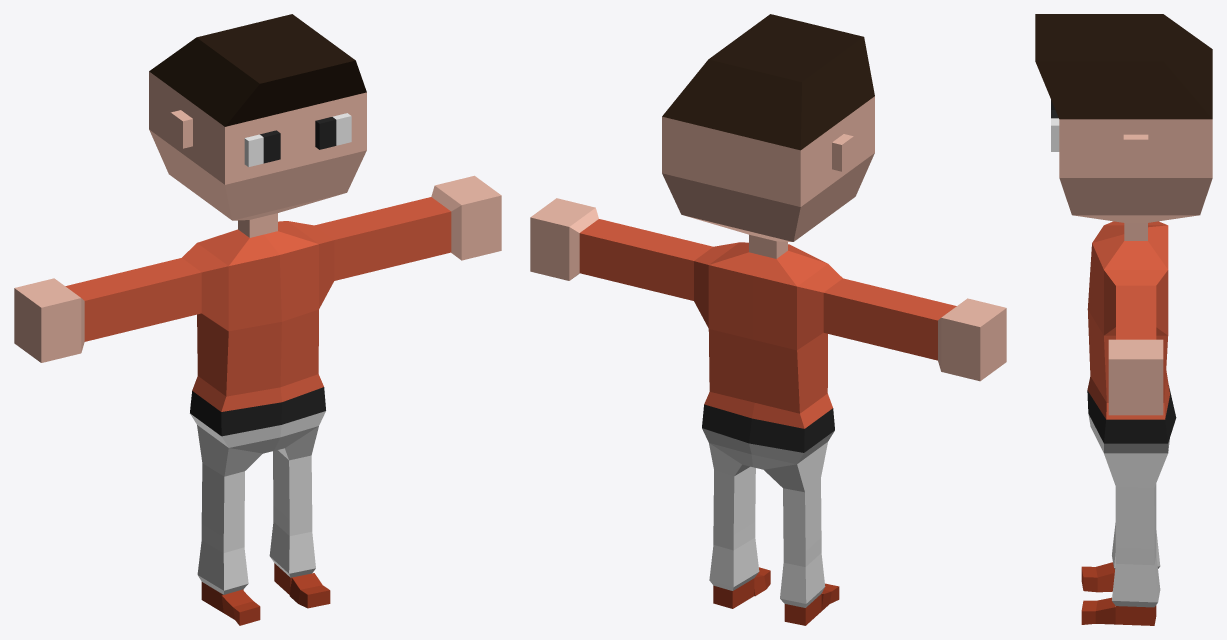
Rendered from pedestrianRed.gltf.
3 renders of one model, left to right at view 1: azimuth 30°, elevation 25°; view 2: azimuth 150°, elevation 25°; view 3: azimuth 270°, elevation 25°, orthographic. The views are drawn at different scales.
Parts seen in each view (by area): view 1: pedestrian red; view 2: pedestrian red; view 3: pedestrian red.
Part boxes in pixels (box(x1,y1,x2,y2)): pedestrian red: box(14, 14, 501, 625); pedestrian red: box(530, 14, 1006, 625); pedestrian red: box(1035, 14, 1212, 625).
Bounding box in the file's own units: 1.3 × 1.51 × 0.43.
1 material, 1 textured.
